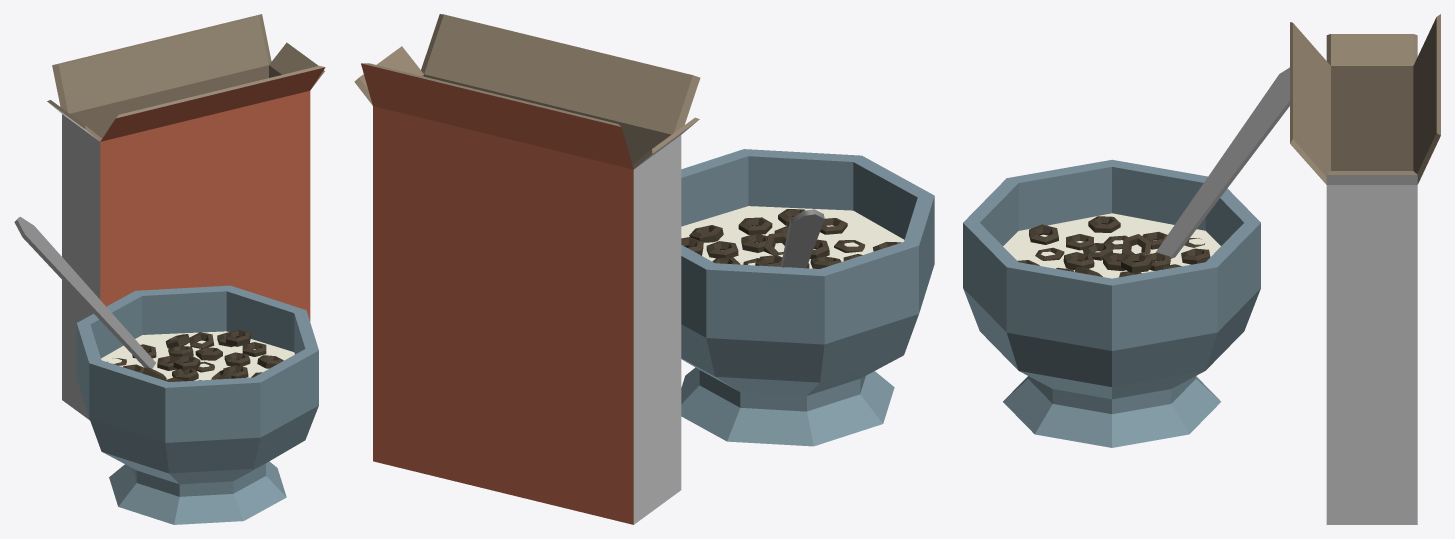
Rendered from Cereal.fbx.
The picture shows the model from 3 angles, left to right: view 1: azimuth 30°, elevation 25°; view 2: azimuth 150°, elevation 25°; view 3: azimuth 270°, elevation 25°; orthographic projection. The views are drawn at different scales.
Parts seen in each view (by area): view 1: pCube1, pCylinder1, pCube3, pCube2; view 2: pCube1, pCylinder1, pCube2, pCube3; view 3: pCylinder1, pCube1, pCube3, pCube2.
Part boxes in pixels (x1,y1,x2,y2): pCube1: (47, 14, 325, 420); pCylinder1: (76, 285, 318, 524); pCube3: (14, 216, 155, 368); pCube2: (101, 331, 294, 380); pCube1: (354, 14, 700, 524); pCylinder1: (681, 149, 934, 446); pCube2: (681, 206, 904, 268); pCube3: (780, 209, 824, 268); pCylinder1: (963, 159, 1260, 447); pCube1: (1290, 14, 1440, 524); pCube3: (1155, 67, 1289, 258); pCube2: (1003, 213, 1220, 278).
Bounding box in the file's own units: 2.09 × 2 × 2.23.
